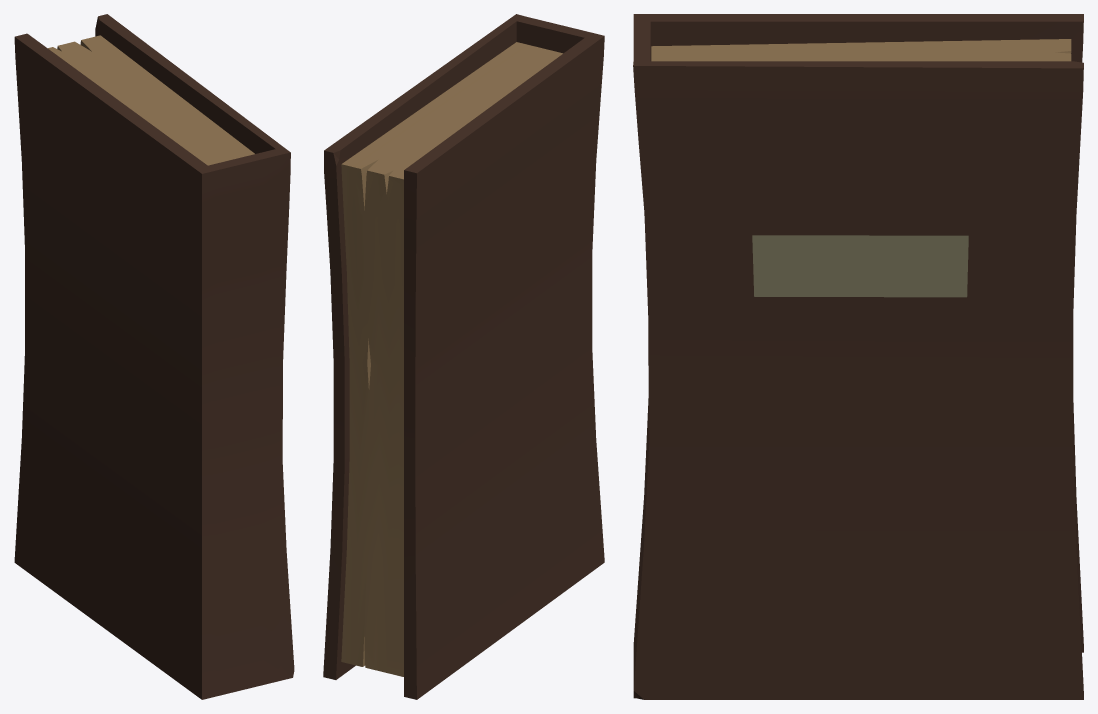
File: GameAWeek11Blender.fbx
3 views of the same model, side by side, from view 1: azimuth 30°, elevation 25°; view 2: azimuth 150°, elevation 25°; view 3: azimuth 270°, elevation 25° (orthographic). The views are drawn at different scales.
Parts seen in each view (by area): view 1: Cube; view 2: Cube; view 3: Cube.
Part boxes in pixels (bbox=[...]): Cube: bbox=[14, 14, 294, 699]; Cube: bbox=[323, 14, 604, 699]; Cube: bbox=[633, 14, 1083, 699].
Size of the model in its own units: 37.23 by 200 by 129.
